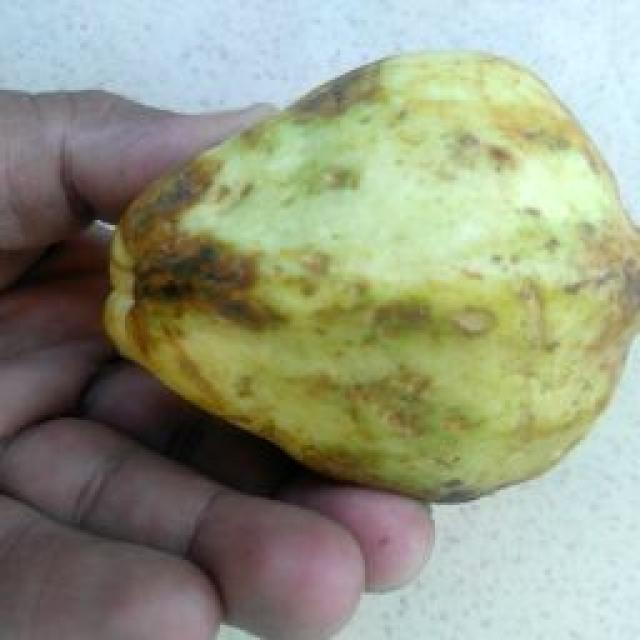Bad_Guava: (105, 52, 640, 500)
